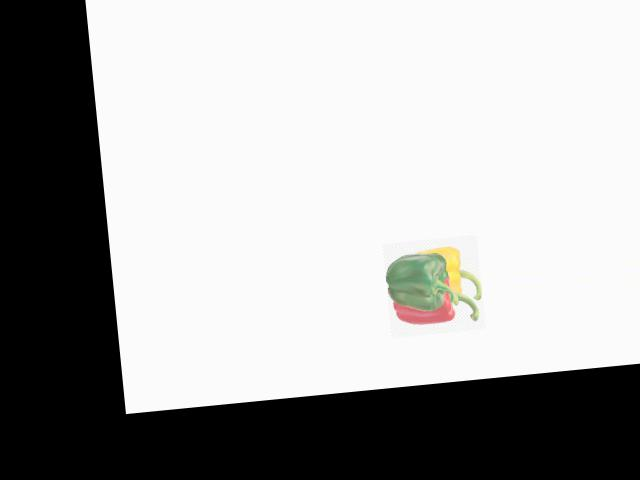bell_pepper: (389, 275, 482, 338)
